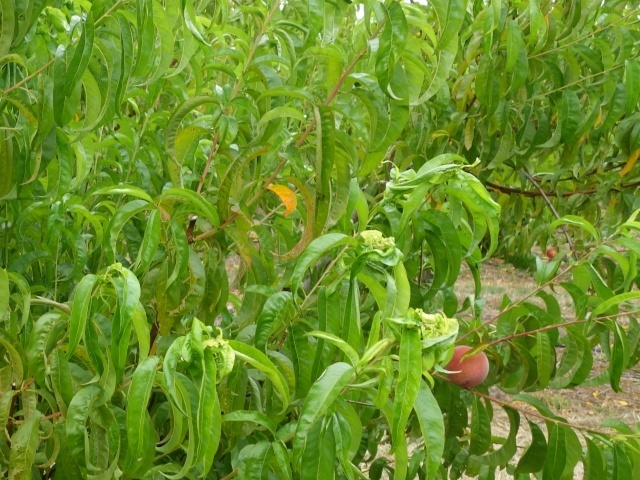peach: (442, 341, 493, 392)
